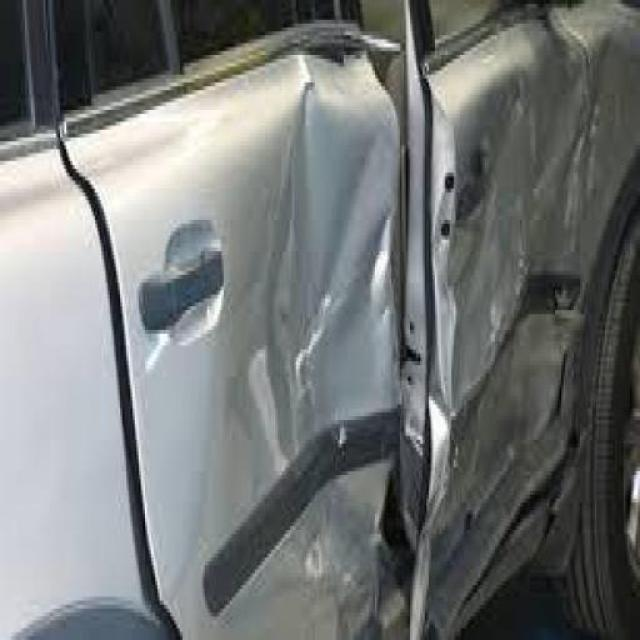crush: (246, 7, 640, 640)
